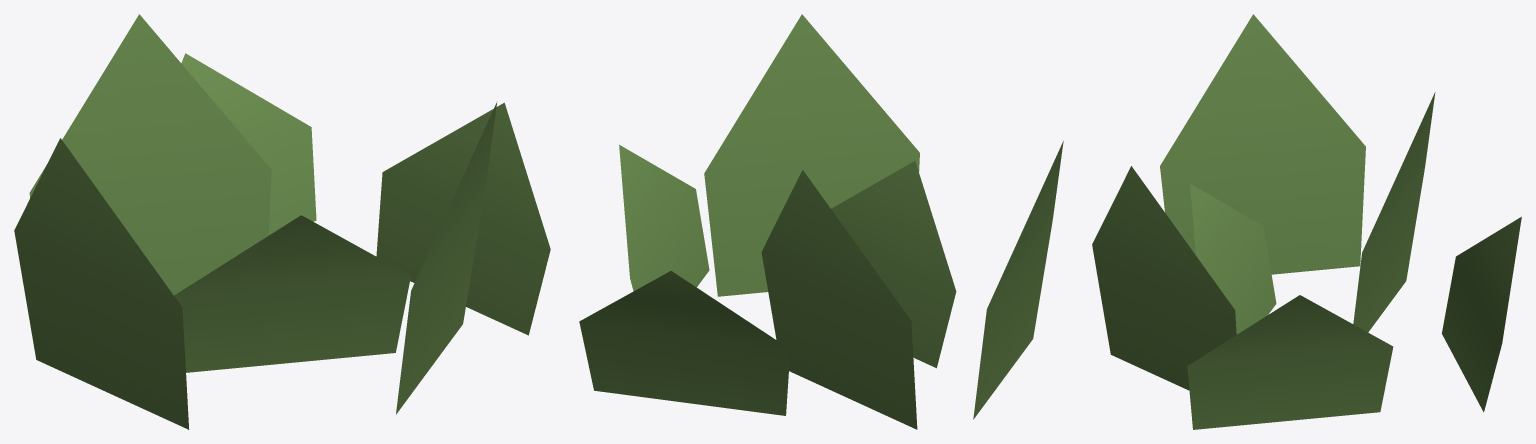
The model's file is cell_x3_z-3_render.gltf.
3 renders of one model, left to right at view 1: azimuth 30°, elevation 25°; view 2: azimuth 150°, elevation 25°; view 3: azimuth 270°, elevation 25°, orthographic. The views are drawn at different scales.
Parts seen in each view (by area): view 1: cell_x3_z-3; view 2: cell_x3_z-3; view 3: cell_x3_z-3.
Part boxes in pixels (<box>): cell_x3_z-3: <box>14,14,550,429</box>; cell_x3_z-3: <box>579,14,1063,429</box>; cell_x3_z-3: <box>1092,14,1521,429</box>.
Size of the model in its own units: 0.9143 by 0.5143 by 0.8481.
